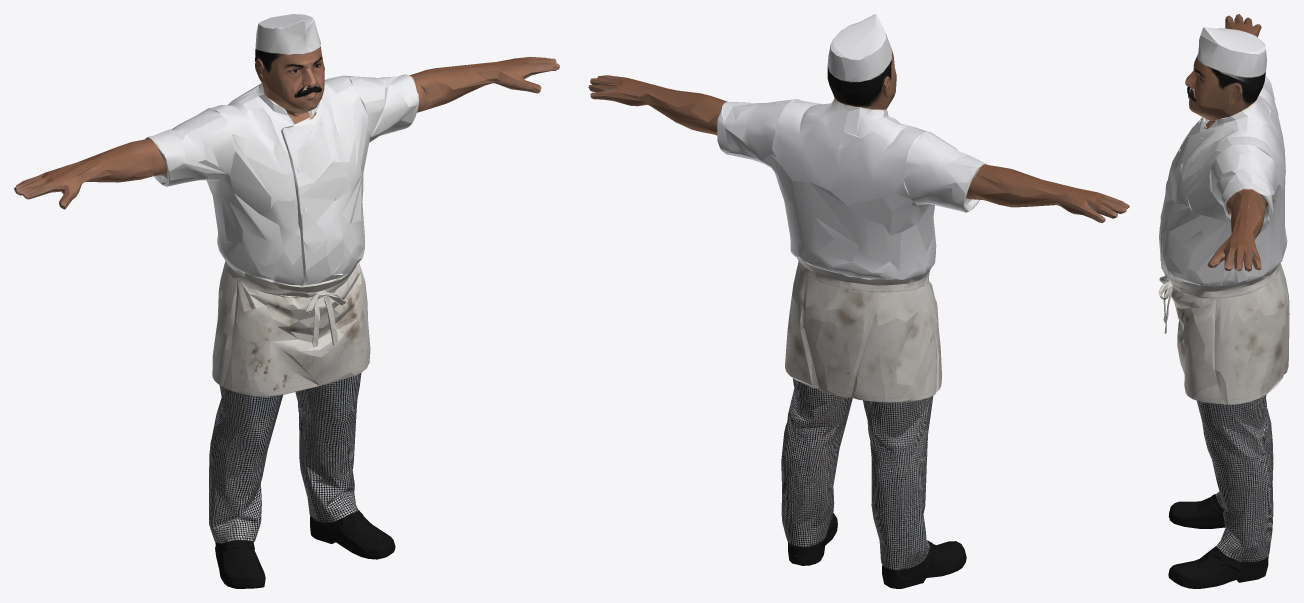
The model's file is image3d.glb.
3 views of the same model, side by side, from view 1: azimuth 30°, elevation 25°; view 2: azimuth 150°, elevation 25°; view 3: azimuth 270°, elevation 25° (orthographic). The views are drawn at different scales.
Size of the model in its own units: 1.9 by 1.83 by 0.4144.
1 material, 1 textured.
